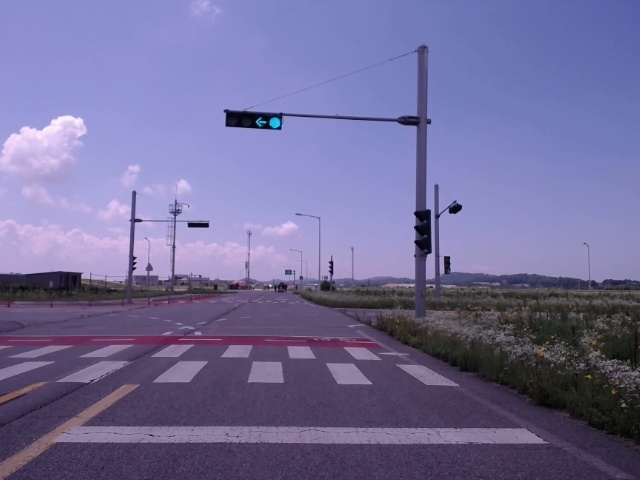all_green_4: (220, 110, 284, 130)
